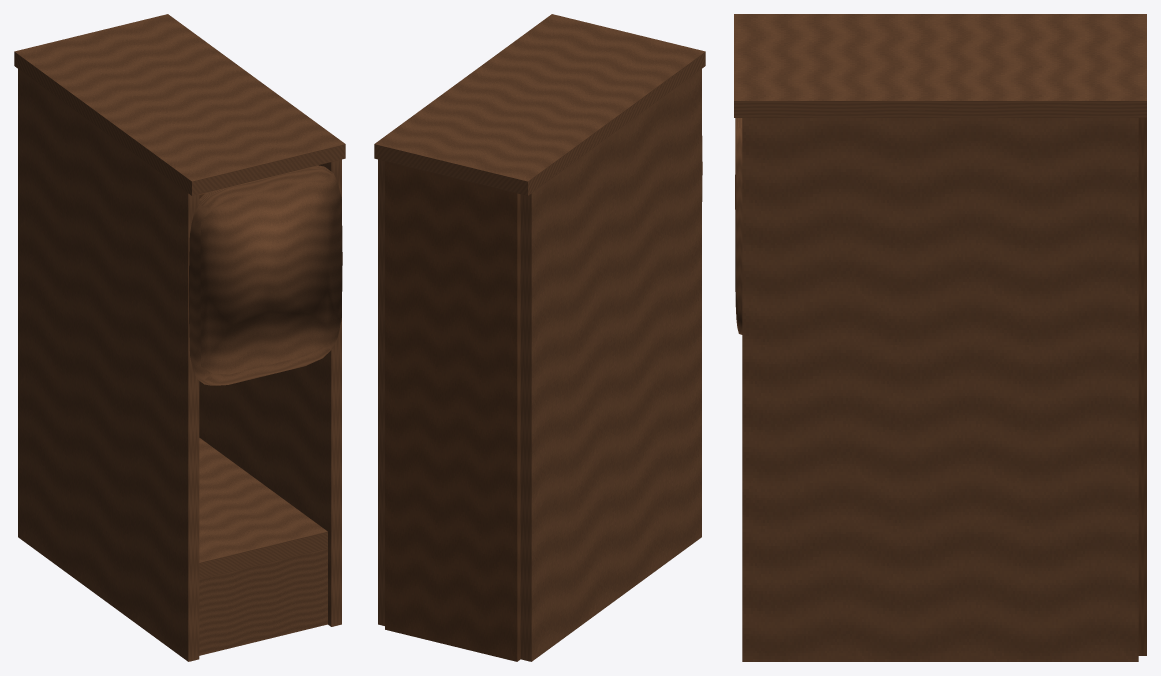
3 views of the same model, side by side, from view 1: azimuth 30°, elevation 25°; view 2: azimuth 150°, elevation 25°; view 3: azimuth 270°, elevation 25° (orthographic). The views are drawn at different scales.
Parts seen in each view (by area): view 1: 2 left_side_panel, 1 top_panel, 7 drawer_front, 3 right_side_panel, 5 bottom_shelf, 6 front_plinth; view 2: 2 left_side_panel, 4 back_panel, 1 top_panel, 3 right_side_panel; view 3: 3 right_side_panel, 1 top_panel, 4 back_panel, 7 drawer_front.
Part boxes in pixels (x1,y1,x2,y2): 2 left_side_panel: (18, 69, 199, 661); 1 top_panel: (14, 14, 345, 195); 7 drawer_front: (189, 165, 342, 385); 3 right_side_panel: (199, 159, 341, 626); 5 bottom_shelf: (199, 438, 327, 579); 6 front_plinth: (199, 548, 327, 655); 2 left_side_panel: (520, 69, 701, 661); 4 back_panel: (385, 161, 520, 661); 1 top_panel: (374, 14, 705, 195); 3 right_side_panel: (378, 159, 384, 625); 3 right_side_panel: (742, 118, 1138, 661); 1 top_panel: (734, 14, 1146, 117); 4 back_panel: (1138, 118, 1146, 655); 7 drawer_front: (735, 118, 742, 334).
Size of the model in its own units: 0.333 by 1 by 0.667.
Materials: 2 (2 with a texture image).
